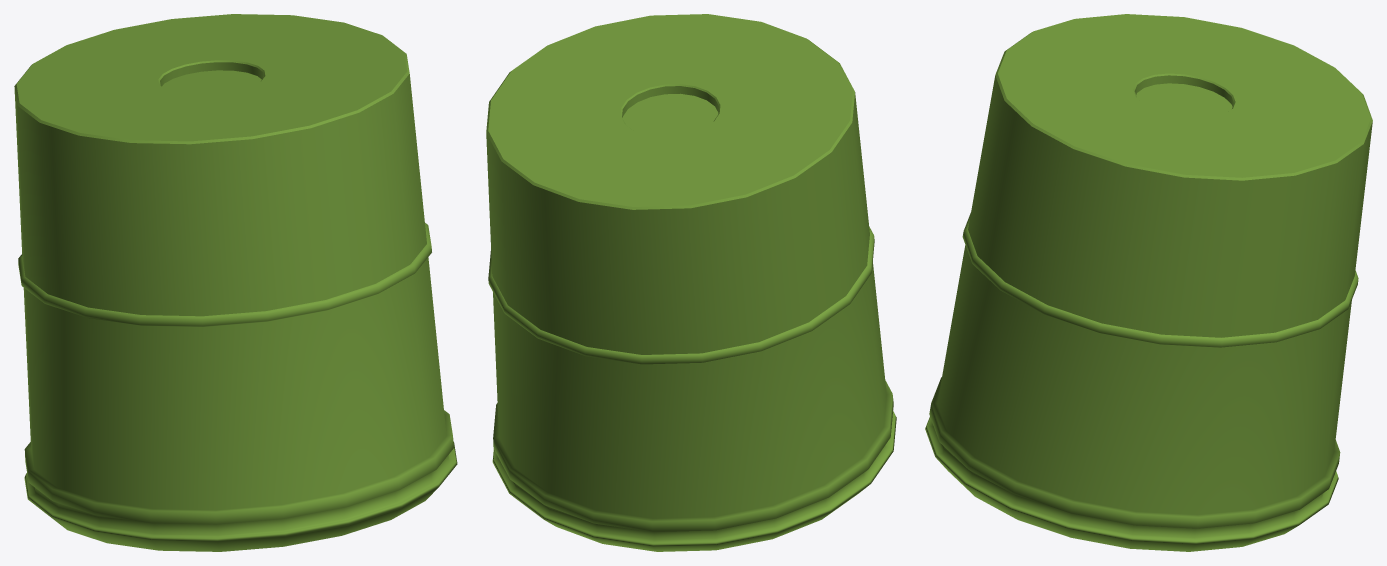
The model's file is Level_sand_ad4.fbx.
The picture shows the model from 3 angles, left to right: view 1: azimuth 30°, elevation 25°; view 2: azimuth 150°, elevation 25°; view 3: azimuth 270°, elevation 25°; orthographic projection. The views are drawn at different scales.
Visible parts, largest first — view 1: pCylinder3; view 2: pCylinder3; view 3: pCylinder3.
Part boxes in pixels (box(x1,y1,x2,y2)): pCylinder3: box(14, 14, 457, 551); pCylinder3: box(486, 14, 896, 551); pCylinder3: box(925, 14, 1372, 551).
Bounding box in the file's own units: 1.01 × 1.11 × 1.08.
